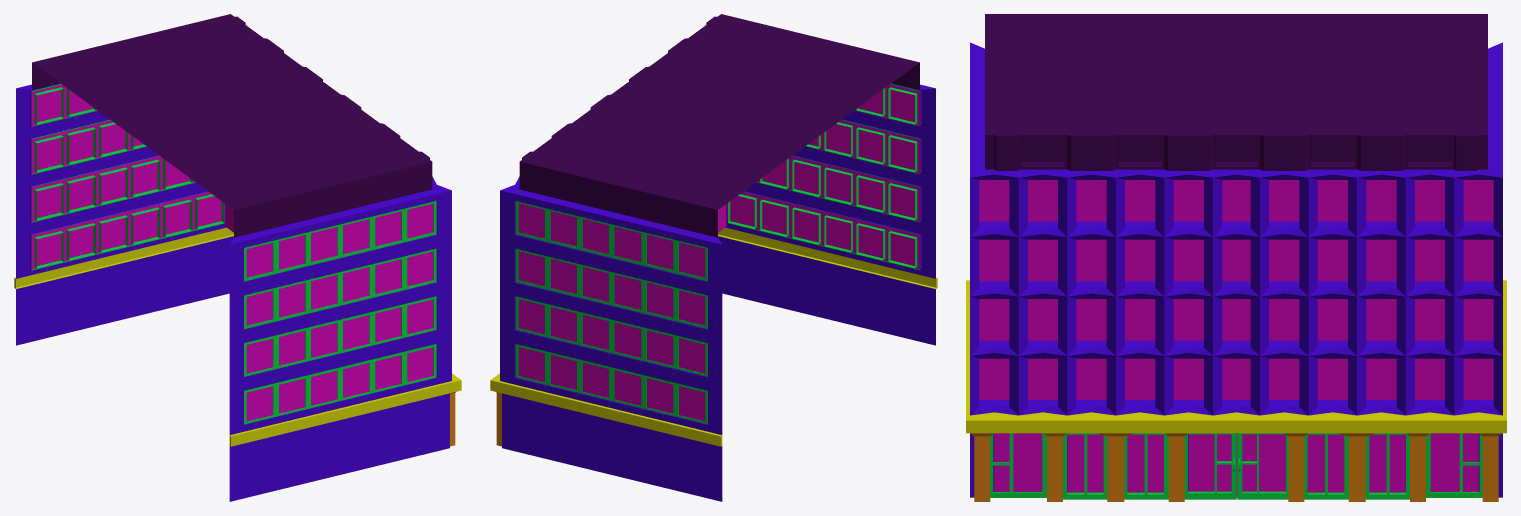
Rendered from Bat_Joliette_7.fbx.
3 views of the same model, side by side, from view 1: azimuth 30°, elevation 25°; view 2: azimuth 150°, elevation 25°; view 3: azimuth 270°, elevation 25° (orthographic). The views are drawn at different scales.
Visible parts, largest first — view 1: Bat_Joliette_7; view 2: Bat_Joliette_7; view 3: Bat_Joliette_7.
Boxes of the visible parts, left/top/right/bottom form: Bat_Joliette_7: left=14, top=14, right=461, bottom=501; Bat_Joliette_7: left=490, top=14, right=937, bottom=501; Bat_Joliette_7: left=966, top=14, right=1506, bottom=501.
Size of the model in its own units: 1565 by 1849 by 2549.
